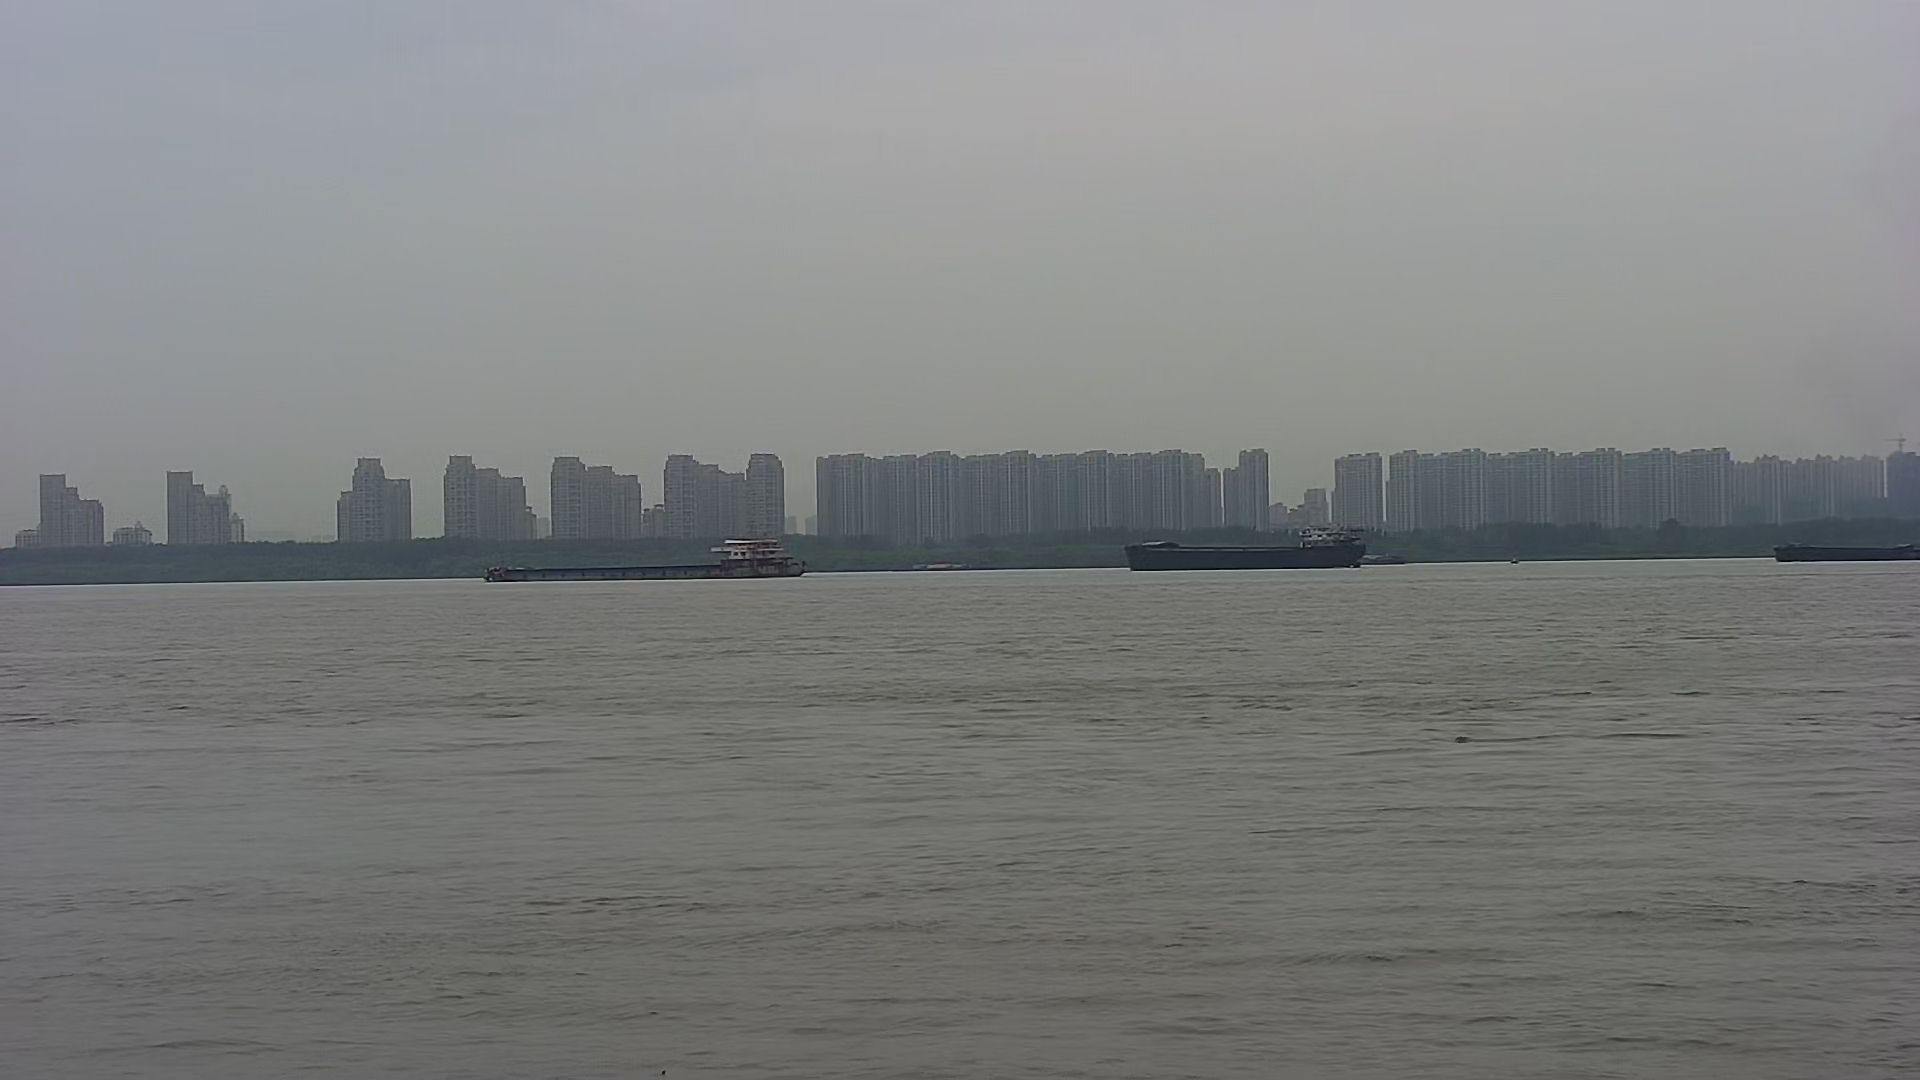ship: (483, 529, 818, 585), (1127, 516, 1374, 576), (1768, 518, 1920, 564)
